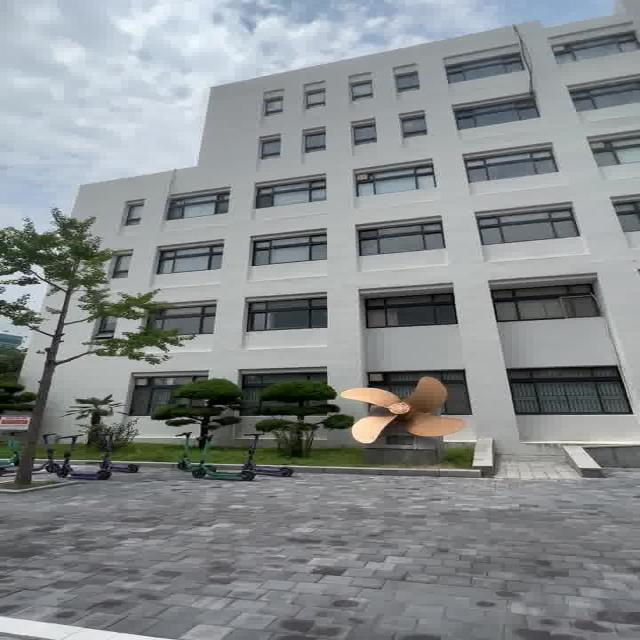building: (185, 21, 640, 443)
